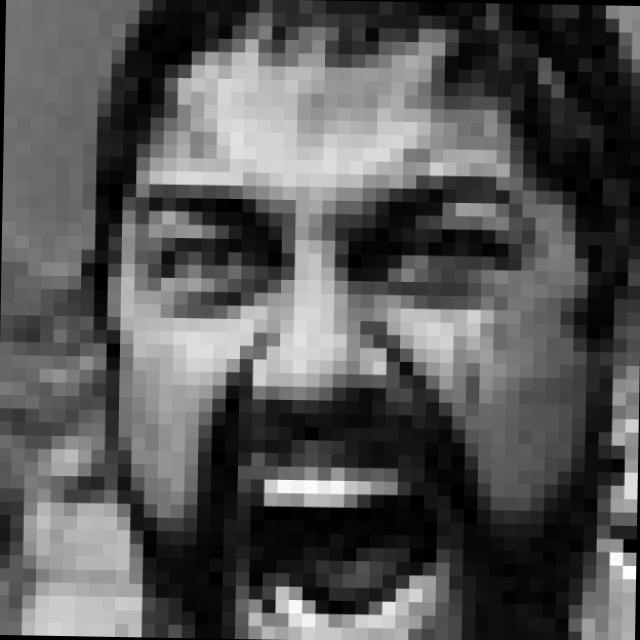angry: (125, 160, 531, 640)
